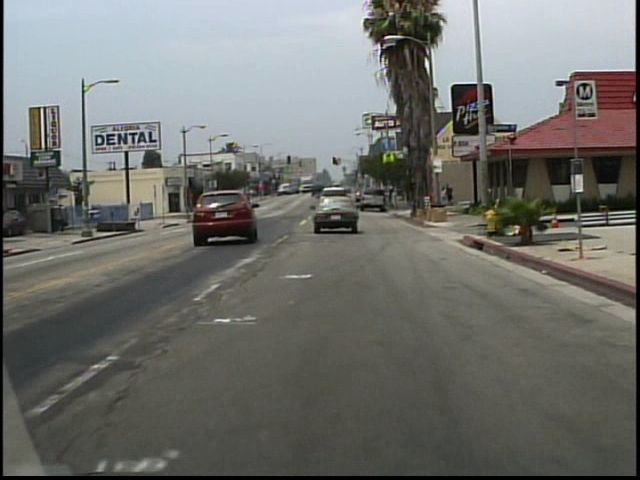person: (446, 183, 454, 207), (441, 185, 448, 208)
